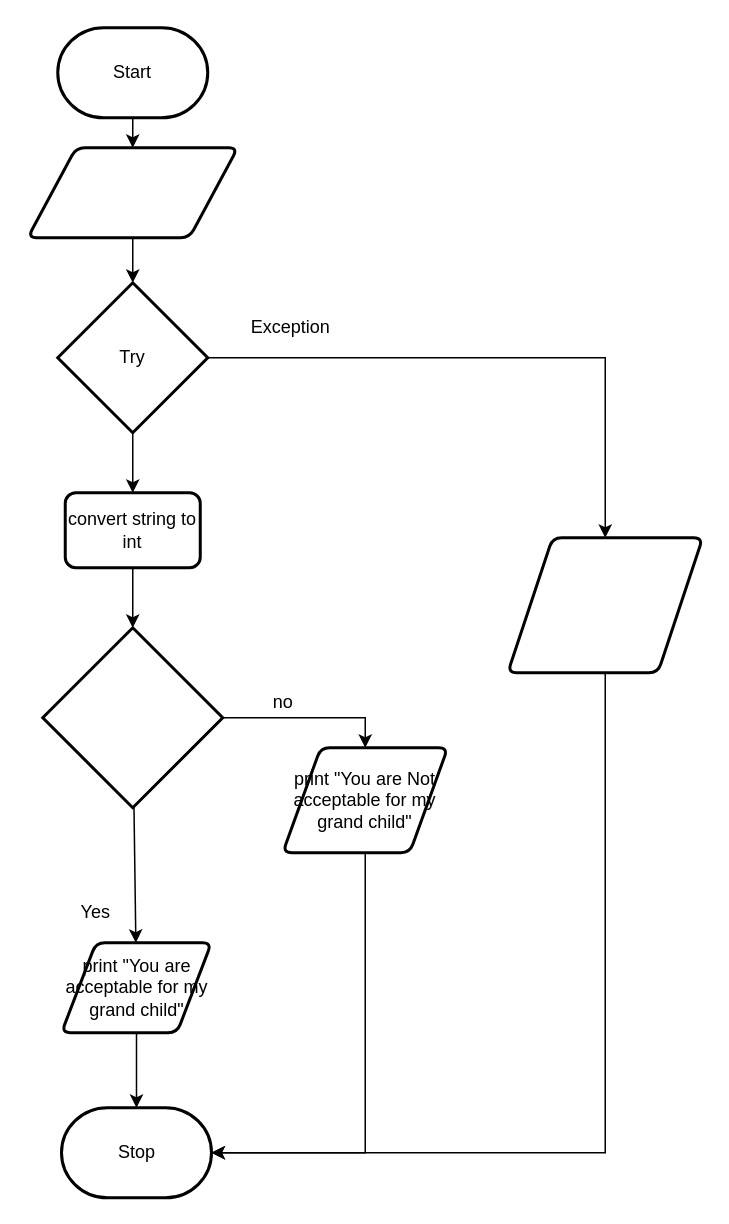
Some shapes in this 729 by 1224 pixel diagram are drawn without their labels. Here are the shapes that lost their labels. From the top down, the centre of each, then its label:
At pixel 132 192: "Get age_Number".
At pixel 605 605: "Not an Age".
At pixel 132 717: "age_Number <= 25 and age_Number >= 40".
